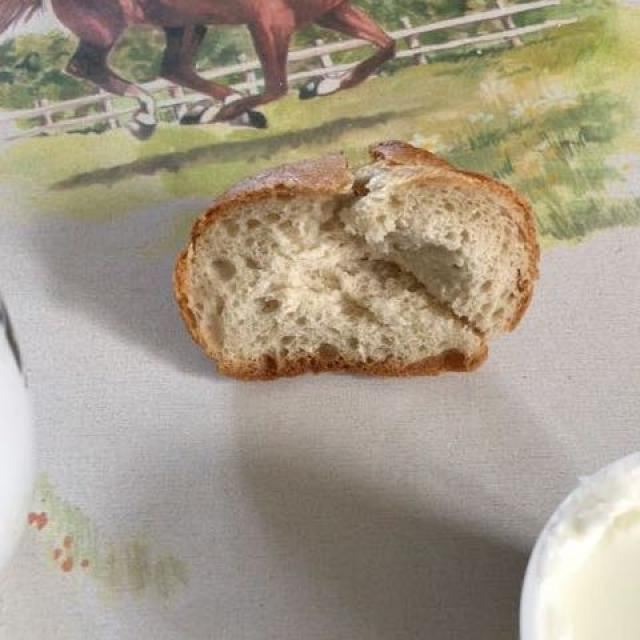bread: (175, 146, 535, 379)
